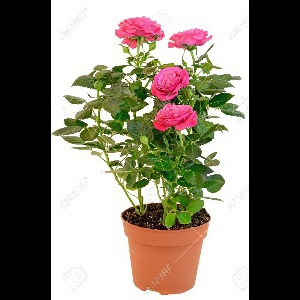flowerpot: (120, 199, 211, 295)
